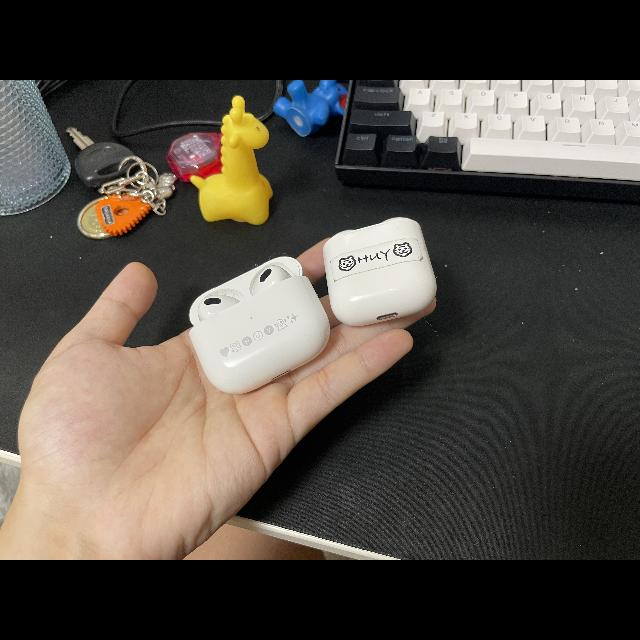airpod2: (309, 212, 453, 328)
airpod3: (179, 248, 331, 402)
